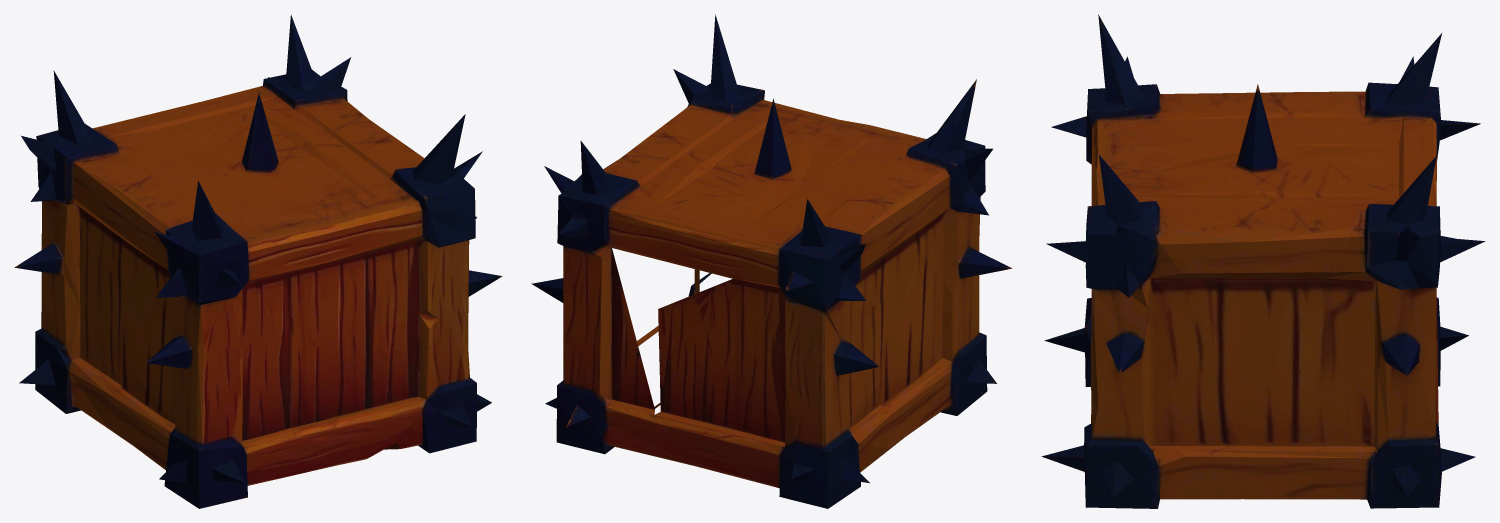
Rendered from spiked_gate.glb.
3 renders of one model, left to right at view 1: azimuth 30°, elevation 25°; view 2: azimuth 150°, elevation 25°; view 3: azimuth 270°, elevation 25°, orthographic. The views are drawn at different scales.
Bounding box in the file's own units: 1.99 × 1.73 × 1.98.
1 material, 1 textured.
